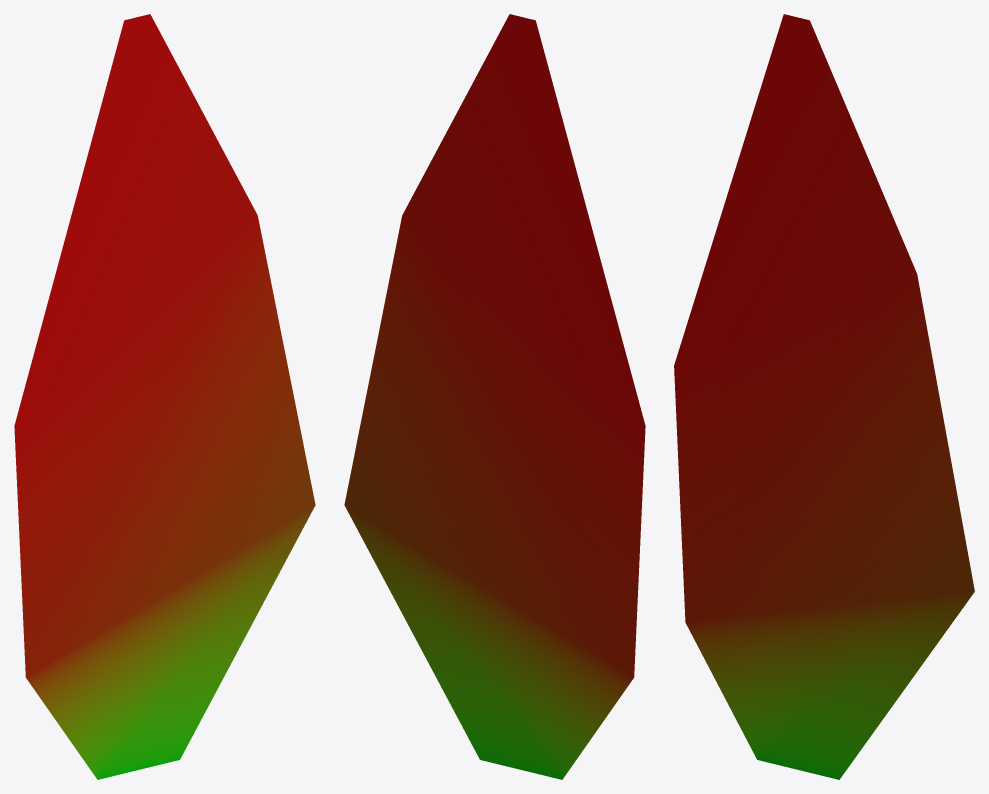
File: Green Herb_LOD3_Var3_tbbpaier.fbx
3 renders of one model, left to right at view 1: azimuth 30°, elevation 25°; view 2: azimuth 150°, elevation 25°; view 3: azimuth 330°, elevation 25°, orthographic.
Visible parts, largest first — view 1: _825c_Var3_LOD3; view 2: _825c_Var3_LOD3; view 3: _825c_Var3_LOD3.
Boxes of the visible parts, x1,y1,x2,y2 form: _825c_Var3_LOD3: (14, 14, 315, 779); _825c_Var3_LOD3: (344, 14, 645, 779); _825c_Var3_LOD3: (674, 14, 974, 779).
Bounding box in the file's own units: 9.49 × 22.66 × 4.92e-07.
